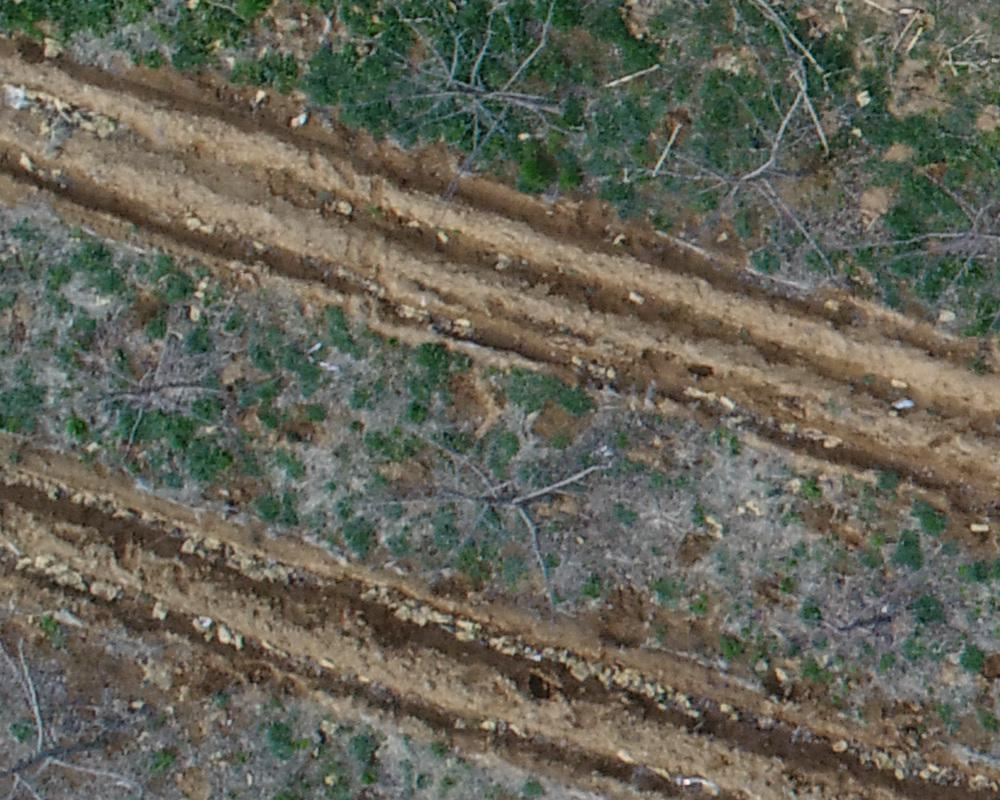apple: (317, 10, 593, 196), (361, 419, 625, 601), (638, 61, 844, 278), (854, 125, 990, 340)
